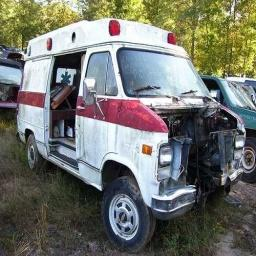ambulance: (17, 19, 244, 251)
